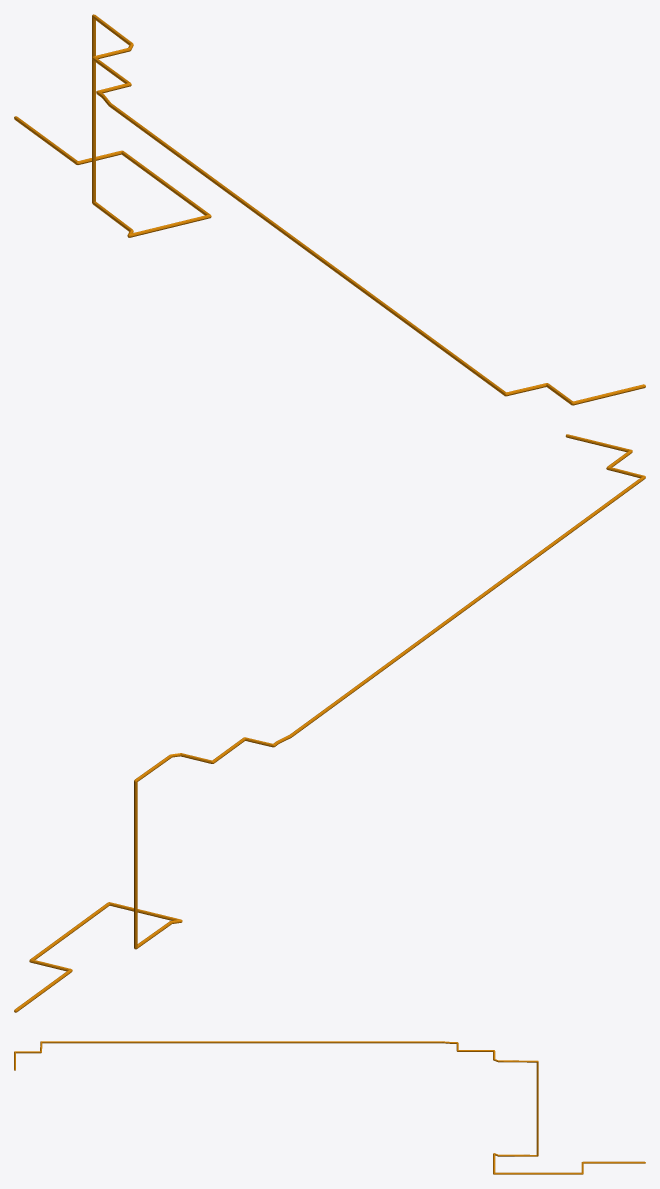
The picture shows the model from 3 angles, top to bottom: view 1: azimuth 30°, elevation 25°; view 2: azimuth 150°, elevation 25°; view 3: azimuth 270°, elevation 25°; orthographic projection. The views are drawn at different scales.
Size of the model in its own units: 869 by 1020 by 6076.
